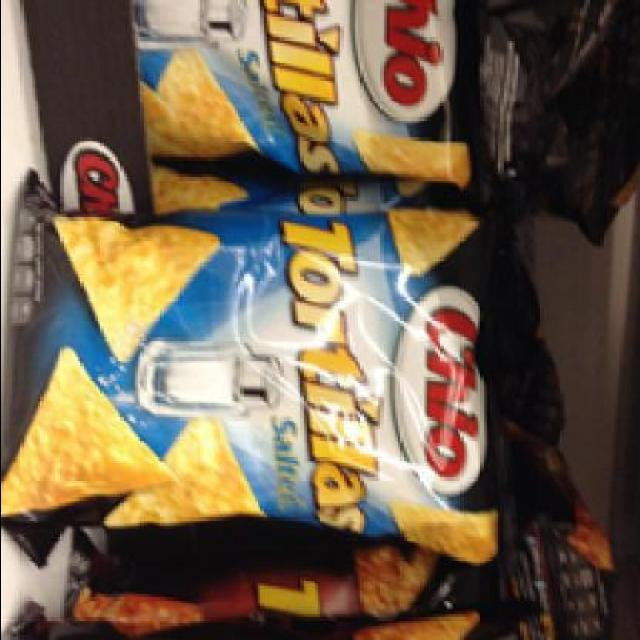Chips: (9, 203, 497, 557), (129, 2, 511, 190)
